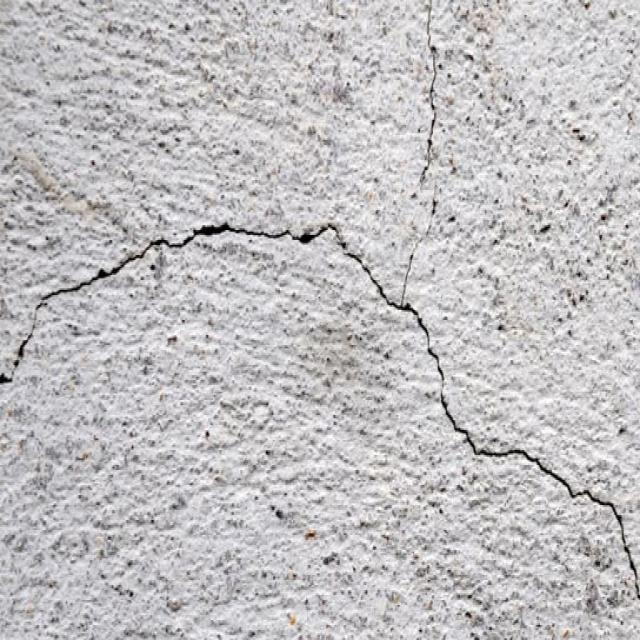Diagonal: (431, 374, 640, 609), (5, 295, 48, 389)
Longitudinal: (411, 0, 443, 227)
Radial: (337, 239, 461, 357)
Transverse: (54, 214, 333, 298)
